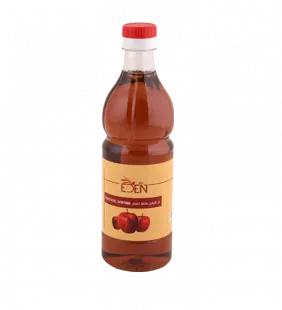Promotion: (92, 12, 181, 282)
